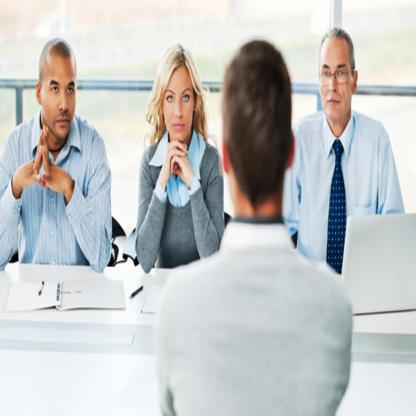face: (44, 52, 79, 137), (321, 39, 352, 124), (166, 70, 198, 146)
